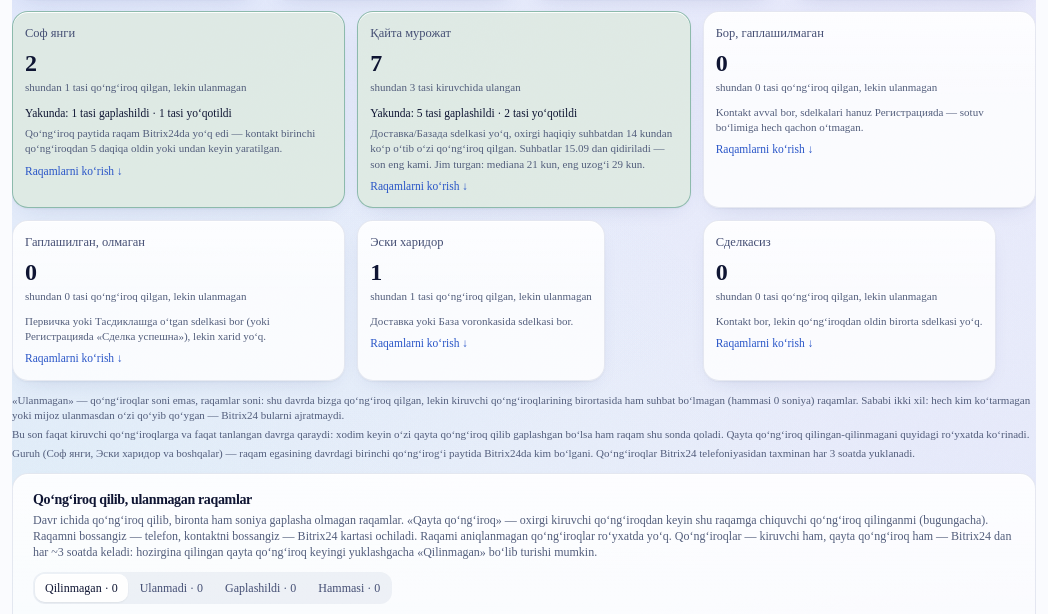
Test: a pressed group tile › never shows one group numbers under another while the other loads
The width and height of the screenshot is (1048, 614).
Click the button "Соф янги": (179, 109) x1=12 y1=11 x2=345 y2=208
(page scrolled)
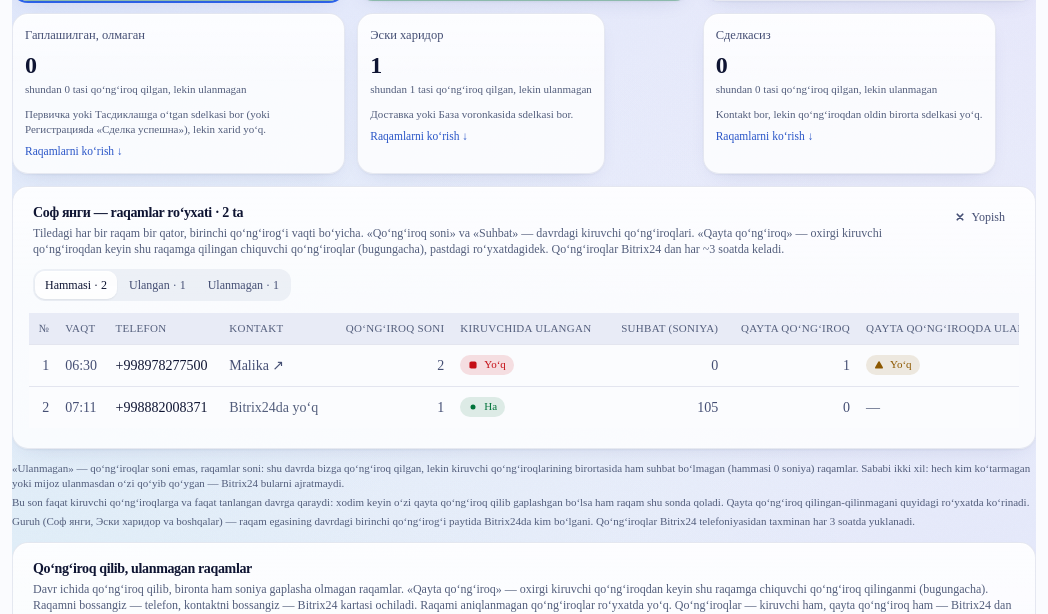
Now the link "+998978277500" is shown, box x1=116 y1=358 x2=208 y2=373
Click the button "Эски харидор": (524, 93) x1=357 y1=13 x2=691 y2=174
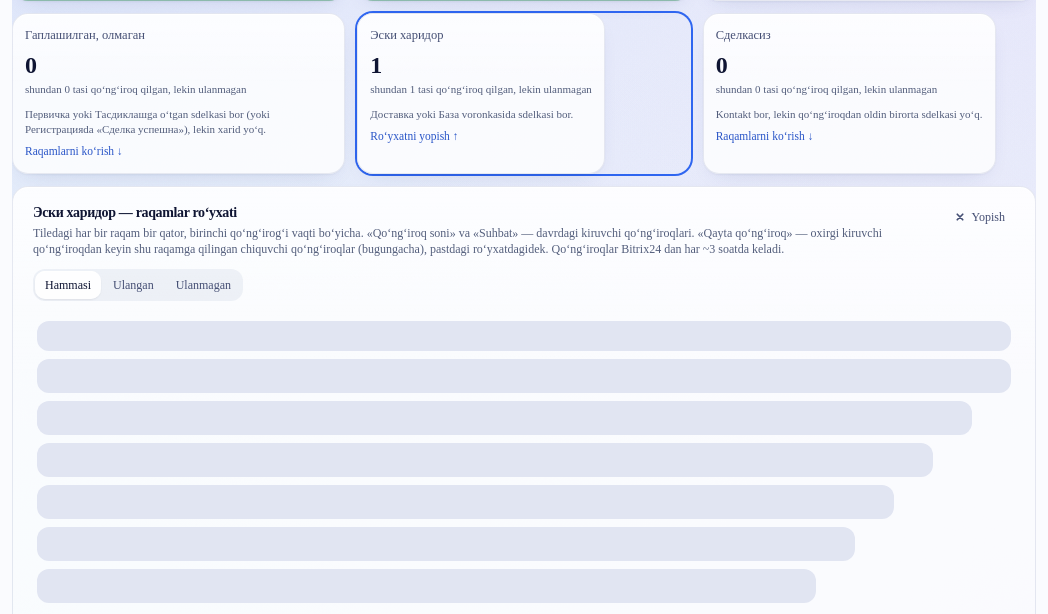
Now the heading "Эски харидор — raqamlar roʻyxati" is shown, box x1=33 y1=205 x2=237 y2=220
Now the link "+998978277500" is gone
